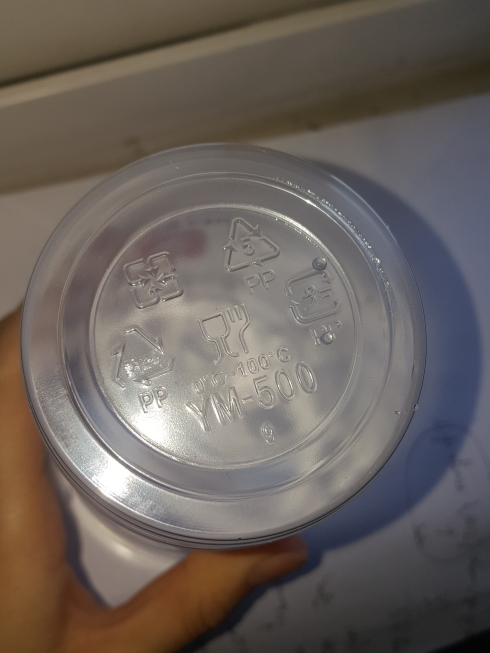recycle: (219, 210, 285, 293)
